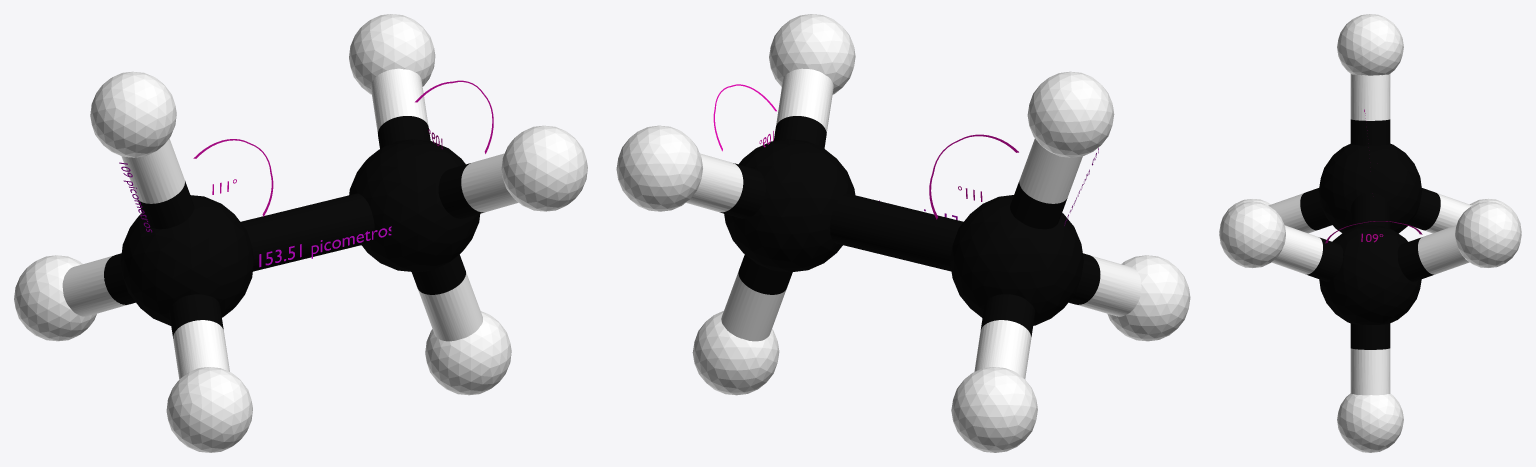
File: etano.glb
3 renders of one model, left to right at view 1: azimuth 30°, elevation 25°; view 2: azimuth 150°, elevation 25°; view 3: azimuth 270°, elevation 25°, orthographic. The views are drawn at different scales.
Visible parts, largest first — view 1: Shape_IndexedFaceSet.002, Shape_IndexedFaceSet.015, Text; view 2: Shape_IndexedFaceSet.002, Shape_IndexedFaceSet.015; view 3: Shape_IndexedFaceSet.002, Shape_IndexedFaceSet.015.
Part boxes in pixels (<box>): Shape_IndexedFaceSet.002: <box>14,14,587,452</box>; Shape_IndexedFaceSet.015: <box>104,116,484,338</box>; Text: <box>259,226,391,267</box>; Shape_IndexedFaceSet.002: <box>616,14,1190,452</box>; Shape_IndexedFaceSet.015: <box>720,116,1100,336</box>; Shape_IndexedFaceSet.002: <box>1219,14,1521,452</box>; Shape_IndexedFaceSet.015: <box>1300,119,1440,349</box>.
Bounding box in the file's own units: 20.78 × 19.27 × 17.2.
